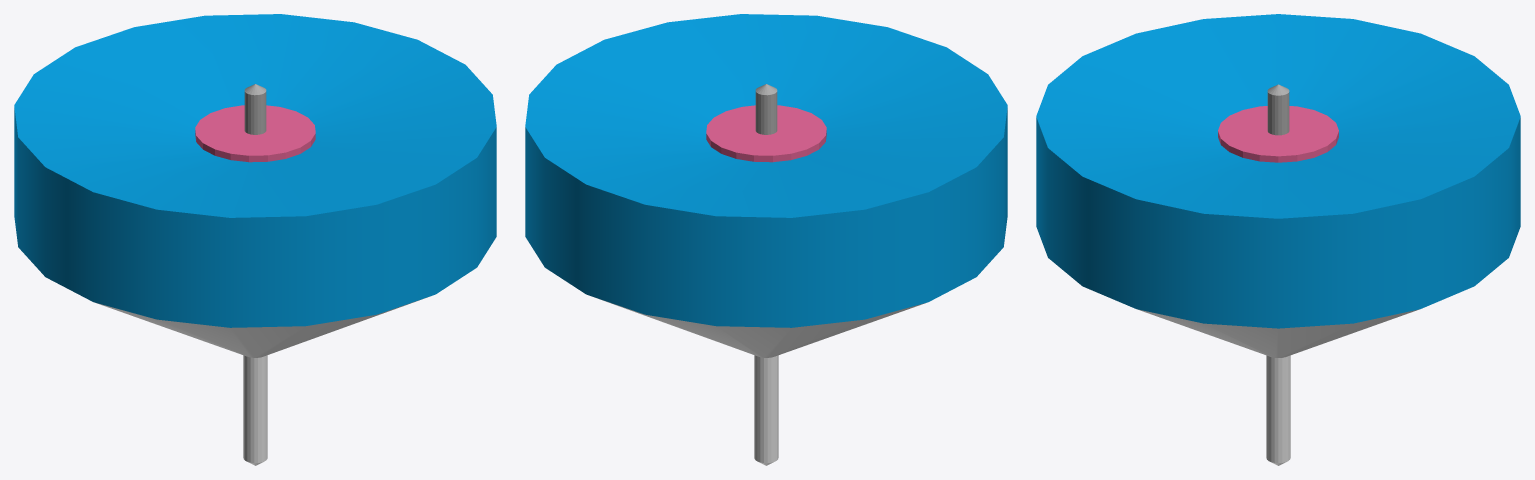
File: koma.fbx
3 views of the same model, side by side, from view 1: azimuth 30°, elevation 25°; view 2: azimuth 150°, elevation 25°; view 3: azimuth 270°, elevation 25° (orthographic).
Parts seen in each view (by area): view 1: pCylinder1; view 2: pCylinder1; view 3: pCylinder1.
Boxes of the visible parts, <box> form: pCylinder1: <box>14,14,496,465</box>; pCylinder1: <box>525,14,1007,465</box>; pCylinder1: <box>1036,14,1520,465</box>.
Size of the model in its own units: 2 by 1.74 by 2.
